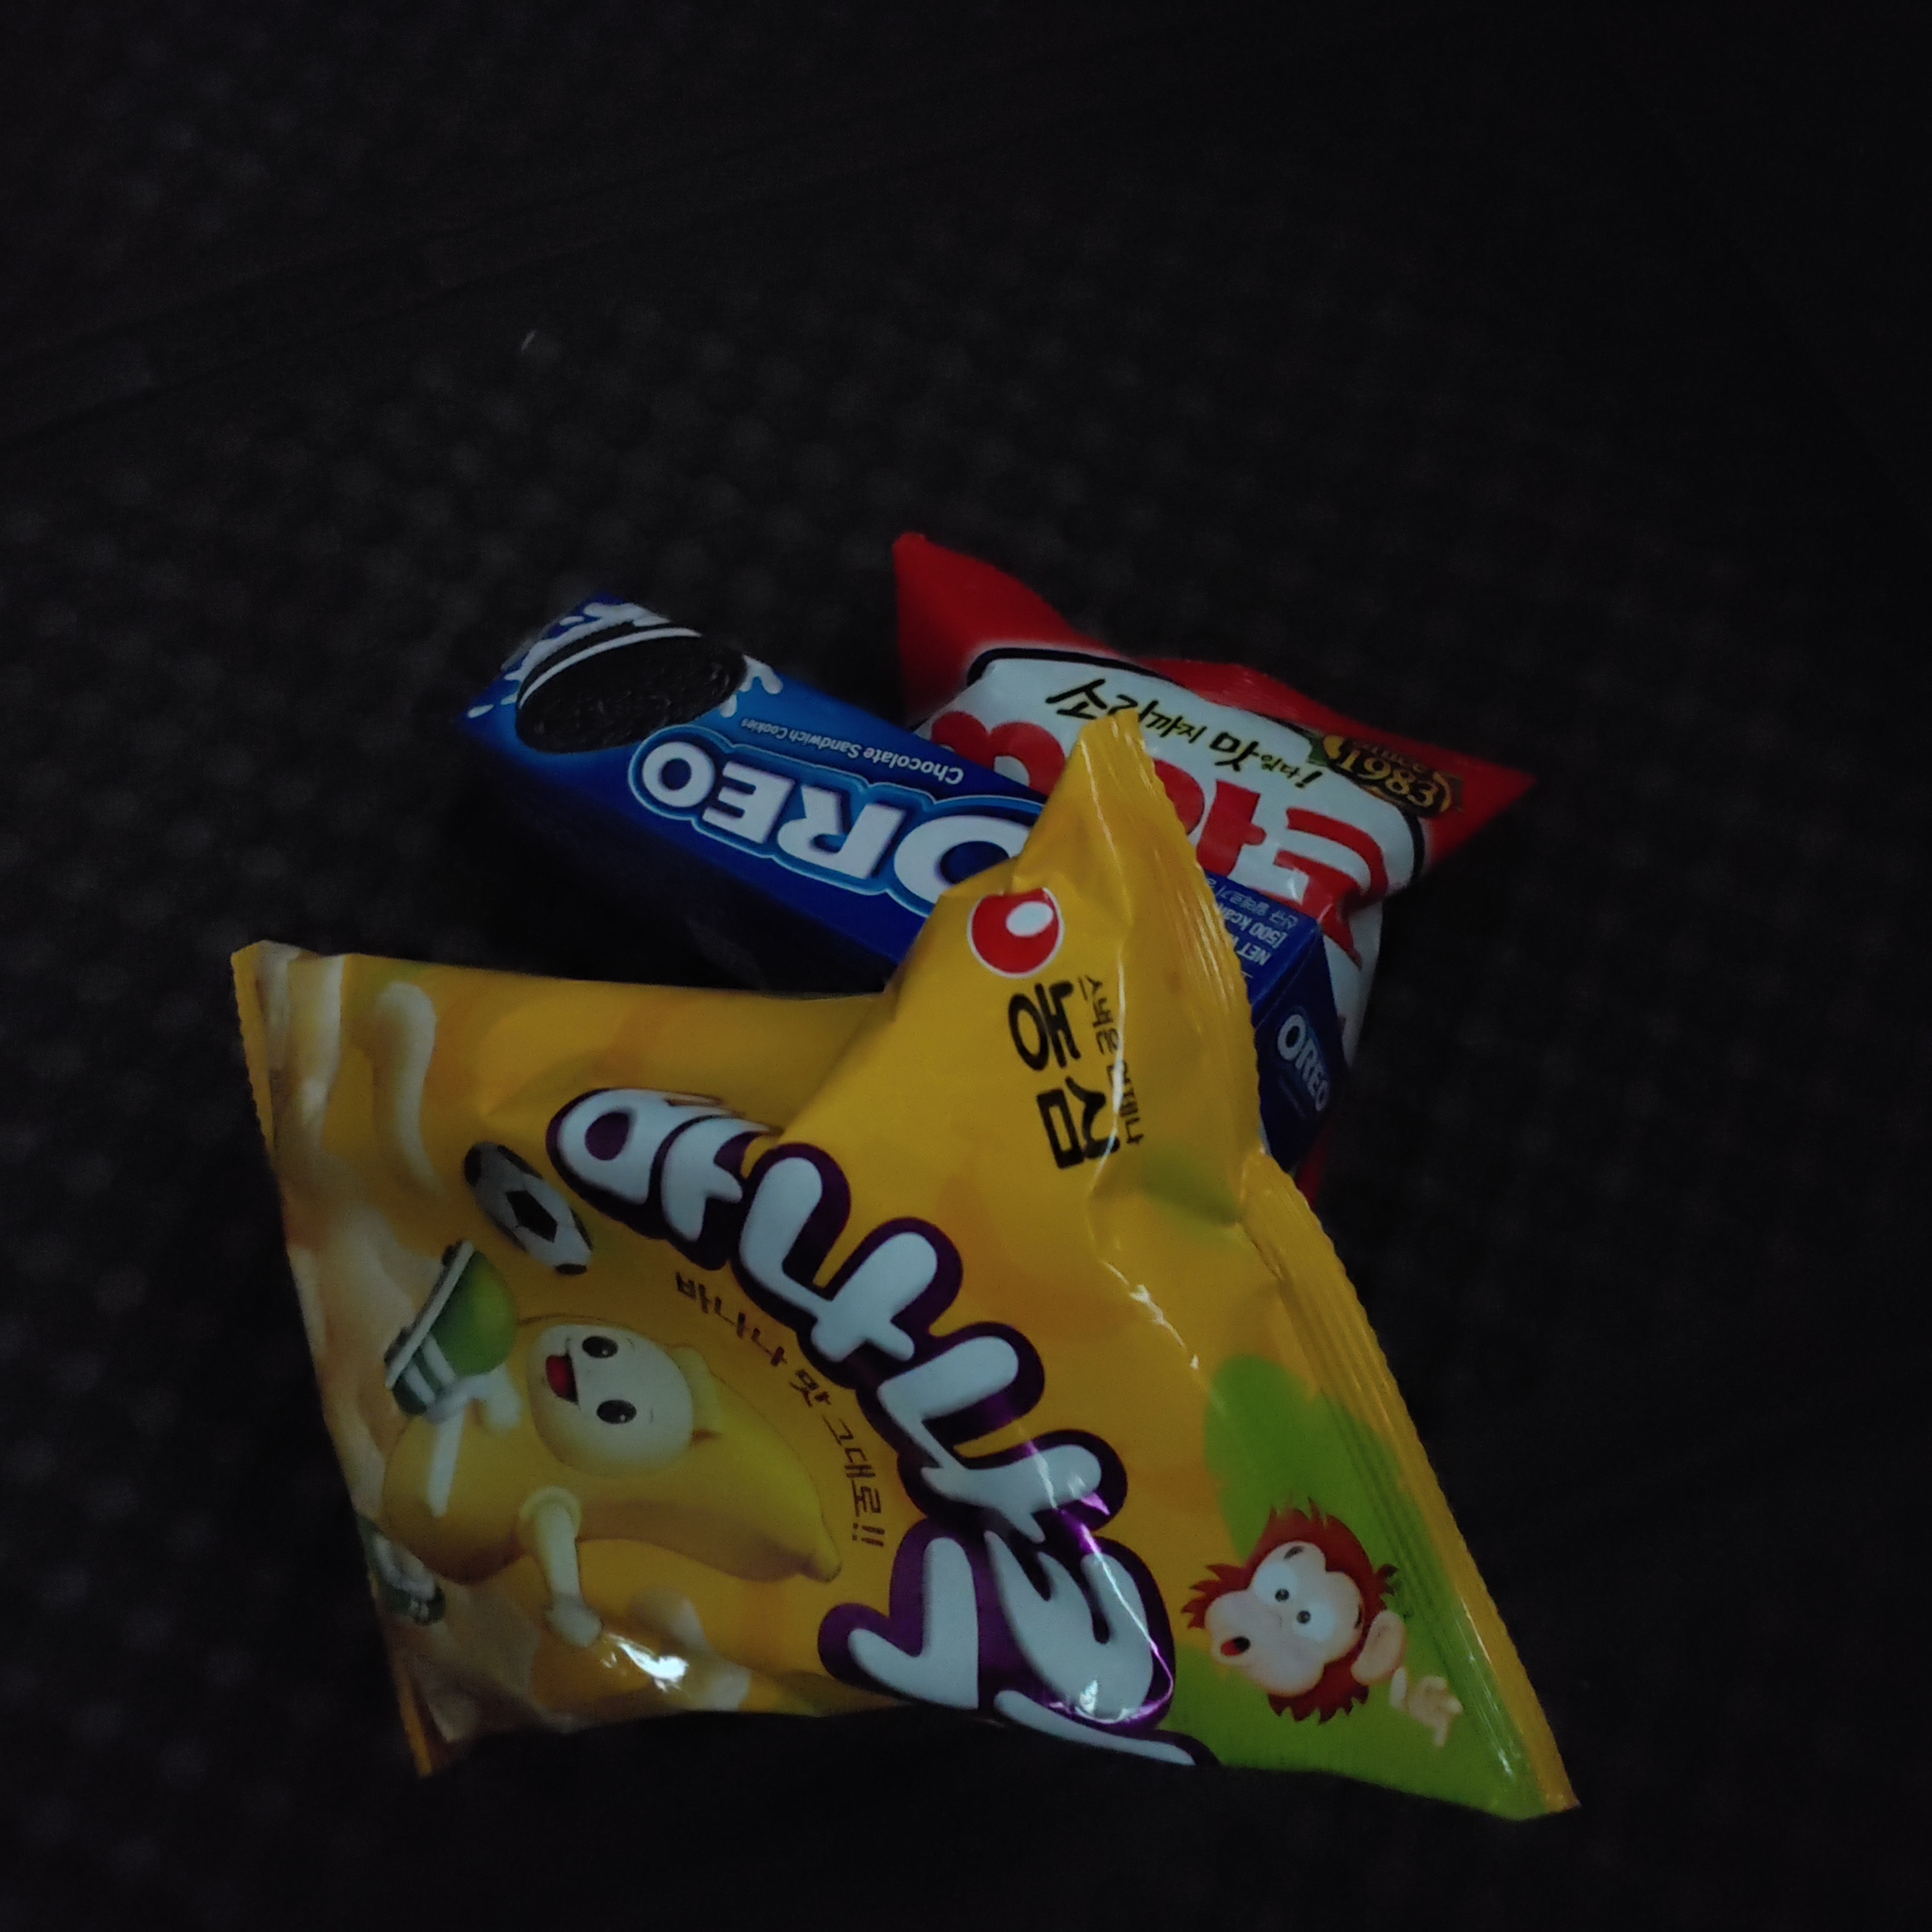banana: (90, 770, 1638, 1932)
ggoggalcon: (805, 410, 1582, 1125)
oreo: (400, 469, 1341, 1201)
